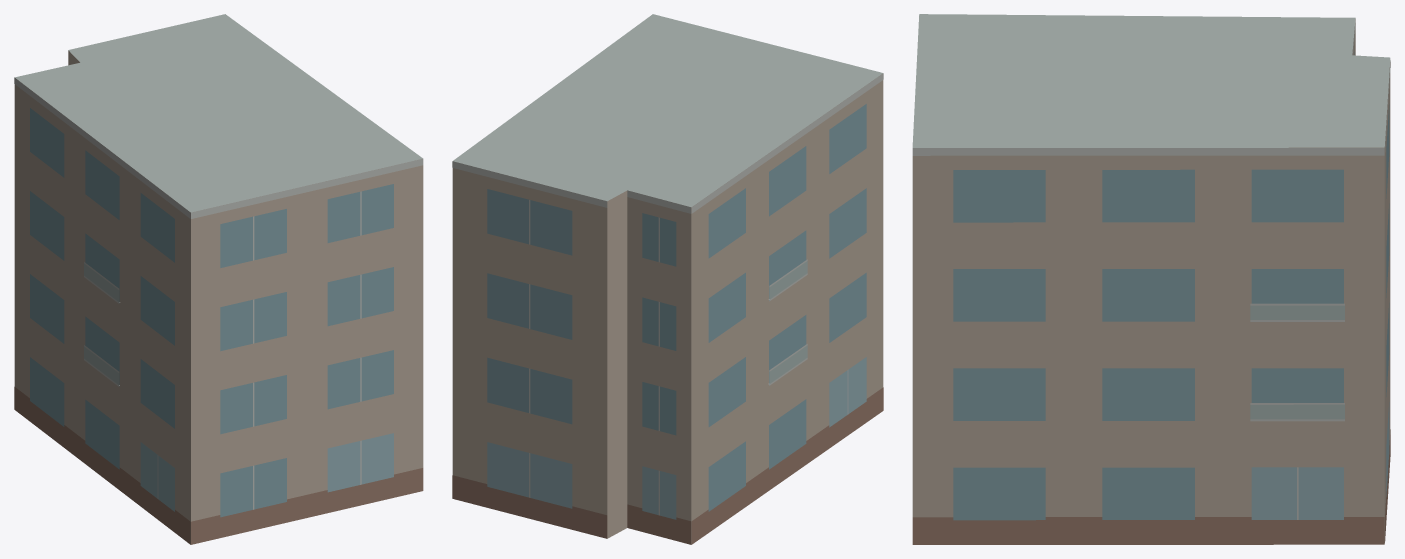
The model's file is survey-upis-32782087.glb.
The picture shows the model from 3 angles, left to right: view 1: azimuth 30°, elevation 25°; view 2: azimuth 150°, elevation 25°; view 3: azimuth 270°, elevation 25°; orthographic projection. The views are drawn at different scales.
Visible parts, largest first — view 1: survey-upis-32782087.tmp; view 2: survey-upis-32782087.tmp; view 3: survey-upis-32782087.tmp.
Part boxes in pixels (bbox=[...]): survey-upis-32782087.tmp: bbox=[14, 14, 423, 544]; survey-upis-32782087.tmp: bbox=[452, 14, 883, 544]; survey-upis-32782087.tmp: bbox=[912, 14, 1390, 544].
Bounding box in the file's own units: 8.94 × 12.3 × 13.43.
